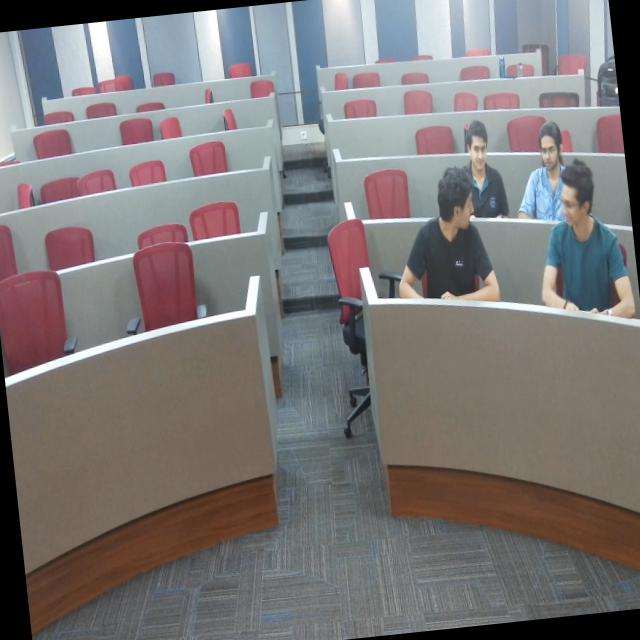cheating: (530, 154, 640, 354), (413, 168, 507, 338), (447, 109, 510, 229)
